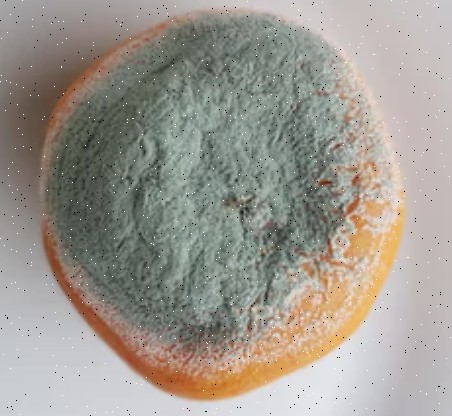rotten_orange: (38, 11, 406, 401)
